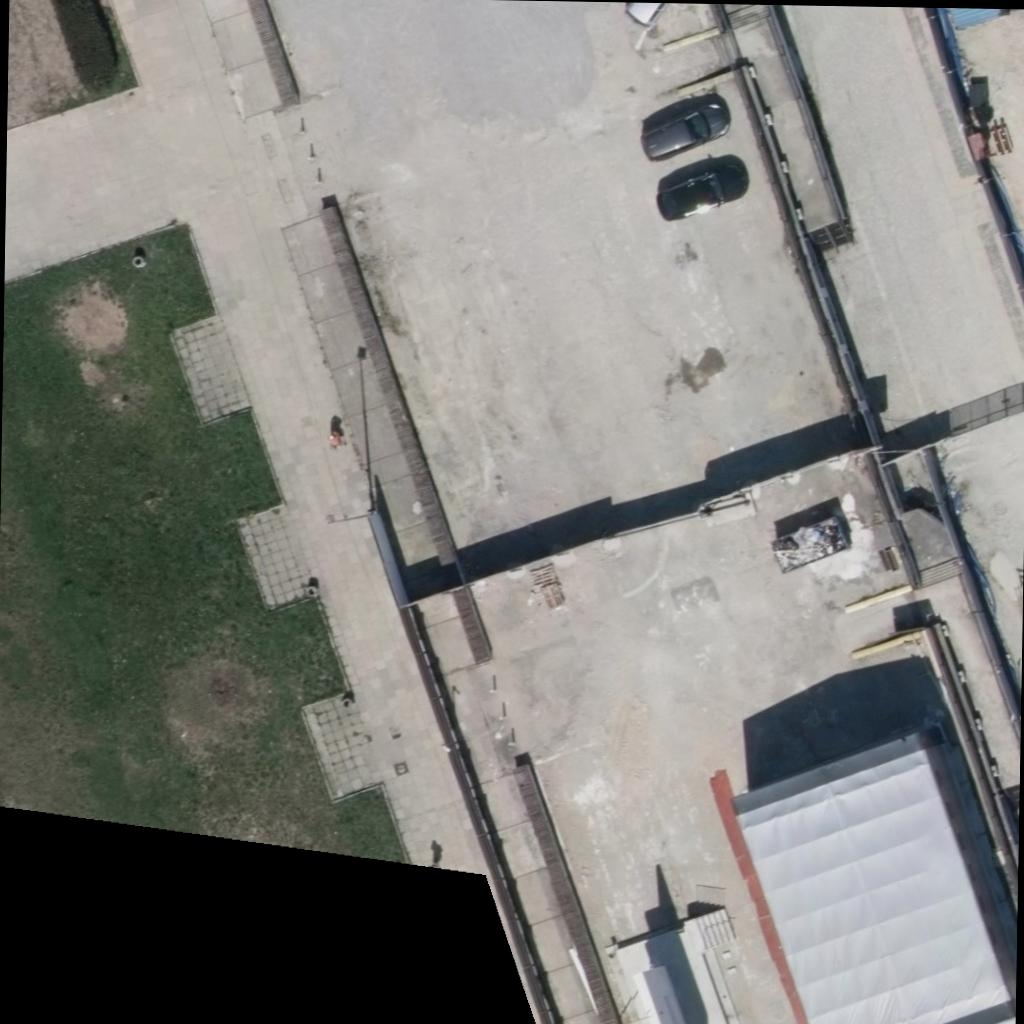samochod_osobowy: (656, 154, 748, 222), (642, 91, 730, 161)
